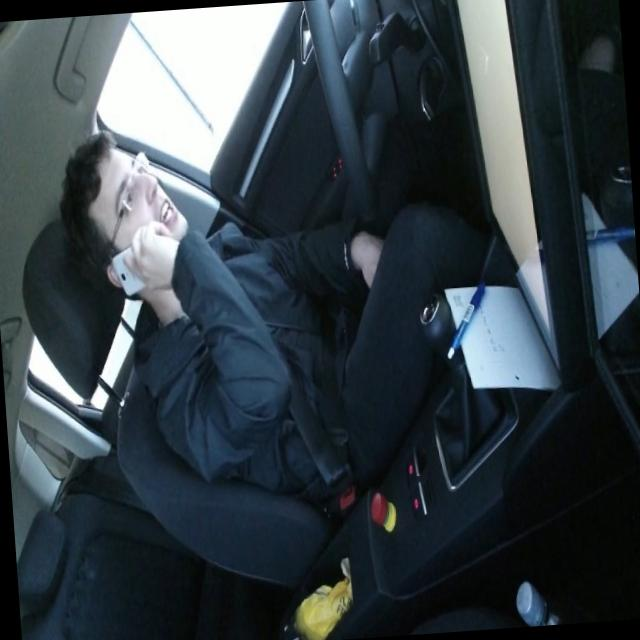pen: (440, 270, 493, 360)
